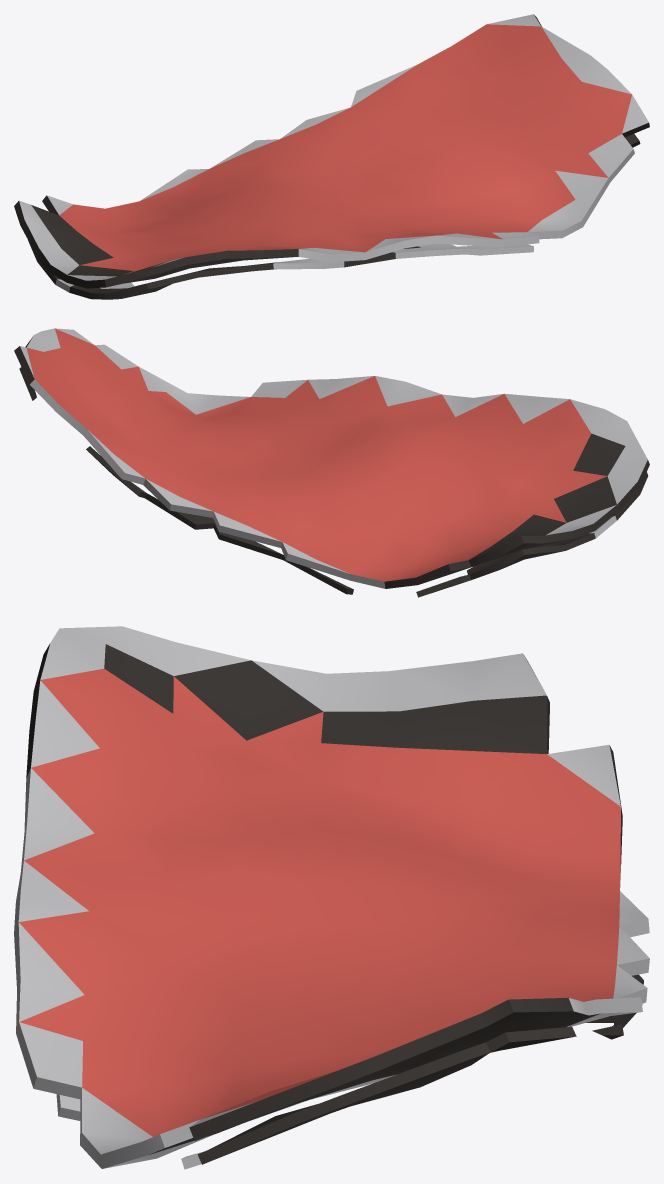
The model's file is Debris_Trunklid.fbx.
3 renders of one model, top to bottom at view 1: azimuth 30°, elevation 25°; view 2: azimuth 150°, elevation 25°; view 3: azimuth 270°, elevation 25°, orthographic. The views are drawn at different scales.
Visible parts, largest first — view 1: Debris_Trunklid; view 2: Debris_Trunklid; view 3: Debris_Trunklid.
Part boxes in pixels (box(x1,y1,x2,y2)): Debris_Trunklid: box(14, 14, 649, 299); Debris_Trunklid: box(14, 328, 649, 597); Debris_Trunklid: box(14, 626, 649, 1169).
Size of the model in its own units: 1.09 by 0.2582 by 0.5599.
